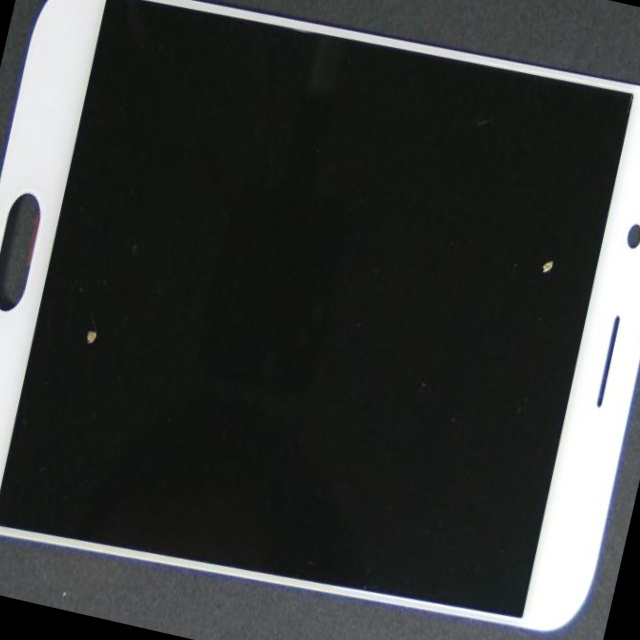stain: (195, 52, 640, 464), (0, 98, 200, 603)
